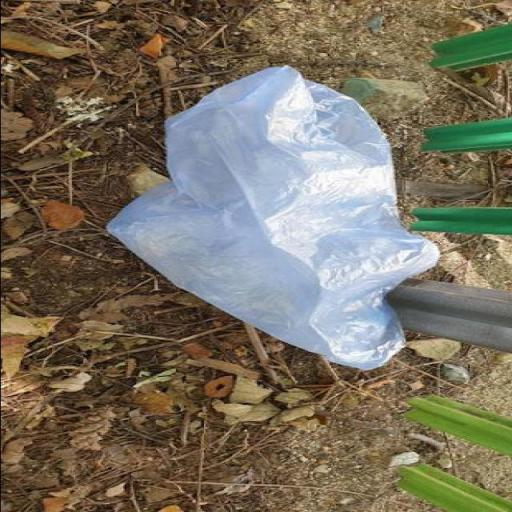plastic-bag: (103, 62, 441, 372)
